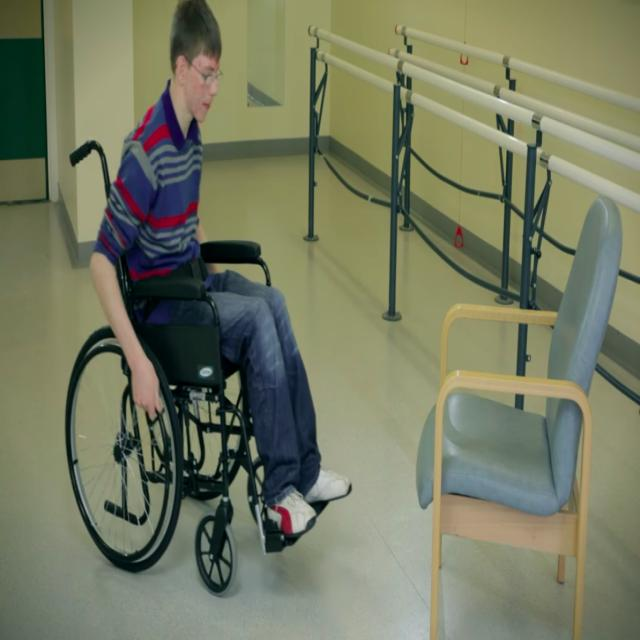wheelchairs: (61, 140, 322, 598)
